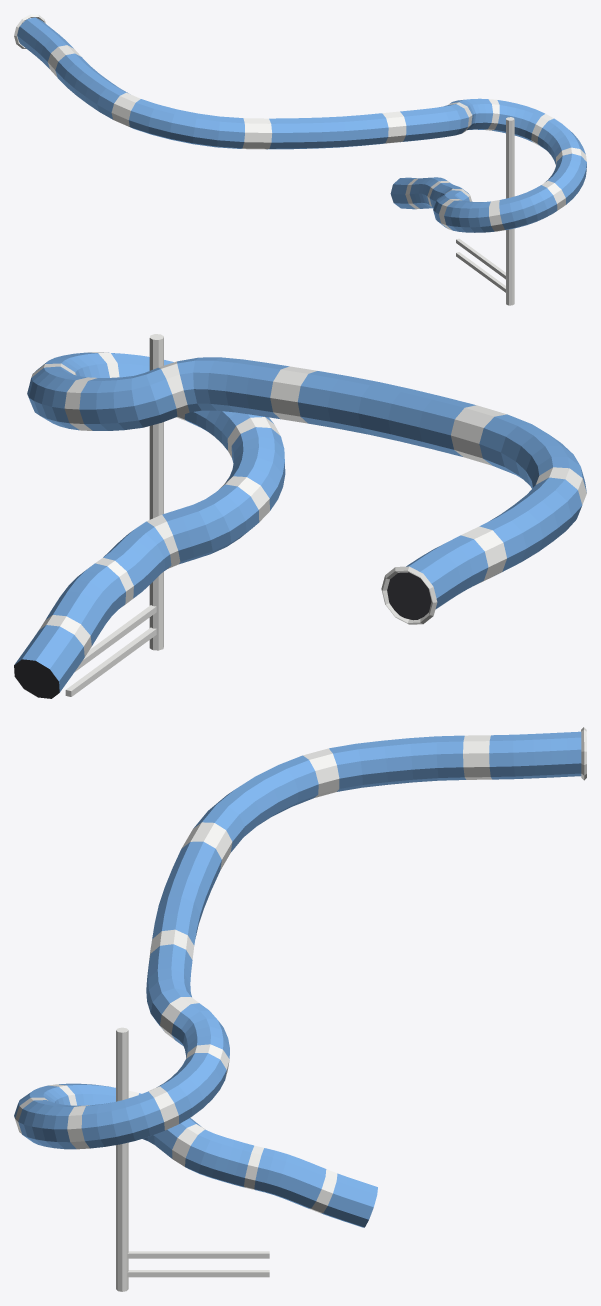
Rendered from CR_Tobogan_Casco.fbx.
3 views of the same model, one above another, from view 1: azimuth 30°, elevation 25°; view 2: azimuth 150°, elevation 25°; view 3: azimuth 270°, elevation 25° (orthographic). The views are drawn at different scales.
Visible parts, largest first — view 1: CR_Tobogan_Casco; view 2: CR_Tobogan_Casco; view 3: CR_Tobogan_Casco.
Boxes of the visible parts, x1,y1,x2,y2 form: CR_Tobogan_Casco: (14, 14, 586, 305); CR_Tobogan_Casco: (14, 334, 586, 698); CR_Tobogan_Casco: (14, 727, 586, 1291).
Size of the model in its own units: 18.78 by 11.03 by 16.63.
